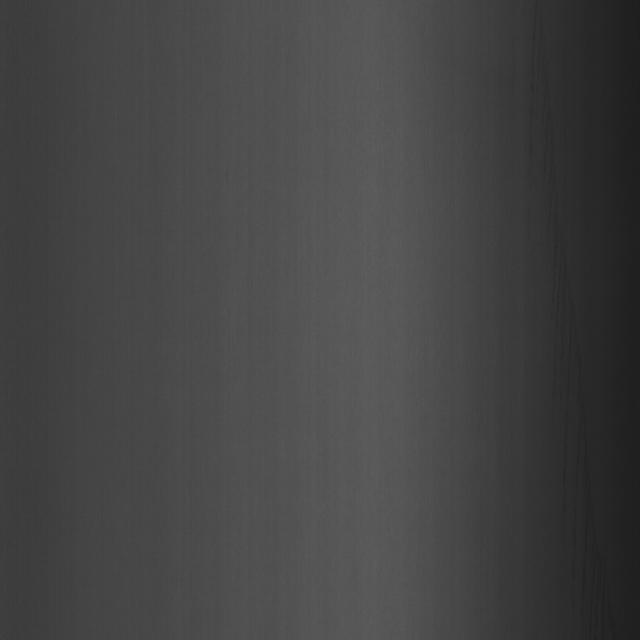water_spot: (520, 20, 616, 601)
